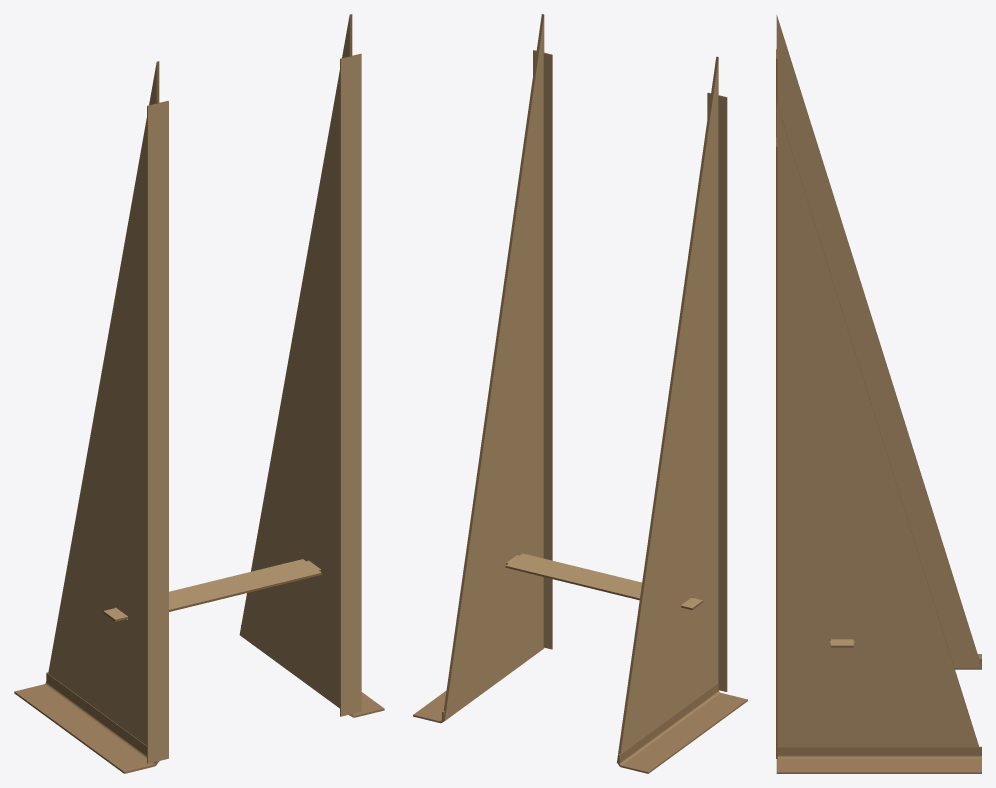
File: standee-support-floor.glb
3 renders of one model, left to right at view 1: azimuth 30°, elevation 25°; view 2: azimuth 150°, elevation 25°; view 3: azimuth 270°, elevation 25°, orthographic. The views are drawn at different scales.
Visible parts, largest first — view 1: floor_Left_EaselWeb, floor_Right_EaselWeb, floor_GlueFlange_-1, floor_GlueFlange_1, floor_ScoredFoot_-1, floor_ShoulderedLockingBridge; view 2: floor_Right_EaselWeb, floor_Left_EaselWeb, floor_GlueFlange_-1, floor_GlueFlange_1, floor_ScoredFoot_-1, floor_ShoulderedLockingBridge; view 3: floor_Right_EaselWeb, floor_Left_EaselWeb, floor_ScoredFoot_1, floor_GlueFlange_1.
Part boxes in pixels (<box>): floor_Left_EaselWeb: <box>48,61,159,762</box>; floor_Right_EaselWeb: <box>239,14,352,715</box>; floor_GlueFlange_-1: <box>147,101,168,763</box>; floor_GlueFlange_1: <box>340,53,361,716</box>; floor_ScoredFoot_-1: <box>14,672,157,773</box>; floor_ShoulderedLockingBridge: <box>103,559,321,621</box>; floor_Right_EaselWeb: <box>443,14,544,721</box>; floor_Left_EaselWeb: <box>617,56,718,763</box>; floor_GlueFlange_-1: <box>707,92,727,691</box>; floor_GlueFlange_1: <box>533,50,552,649</box>; floor_ScoredFoot_-1: <box>618,682,747,773</box>; floor_ShoulderedLockingBridge: <box>505,553,703,610</box>; floor_Right_EaselWeb: <box>776,102,978,747</box>; floor_Left_EaselWeb: <box>776,15,981,668</box>; floor_ScoredFoot_1: <box>776,746,981,773</box>; floor_GlueFlange_1: <box>776,137,777,758</box>.
Bounding box in the file's own units: 1.16 × 3 × 0.852.
